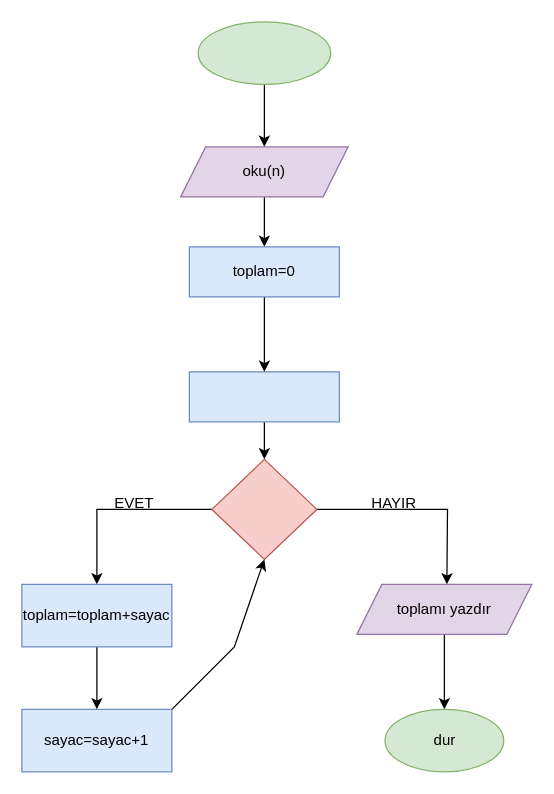
Some shapes in this 554 by 794 pixel diagram are drawn without their labels. Here are the shapes that lost their labels. From the top down, the box of each, then its label:
(197, 21, 331, 84): başla
(188, 371, 339, 422): sayac=1
(211, 458, 317, 559): sayac=<n
